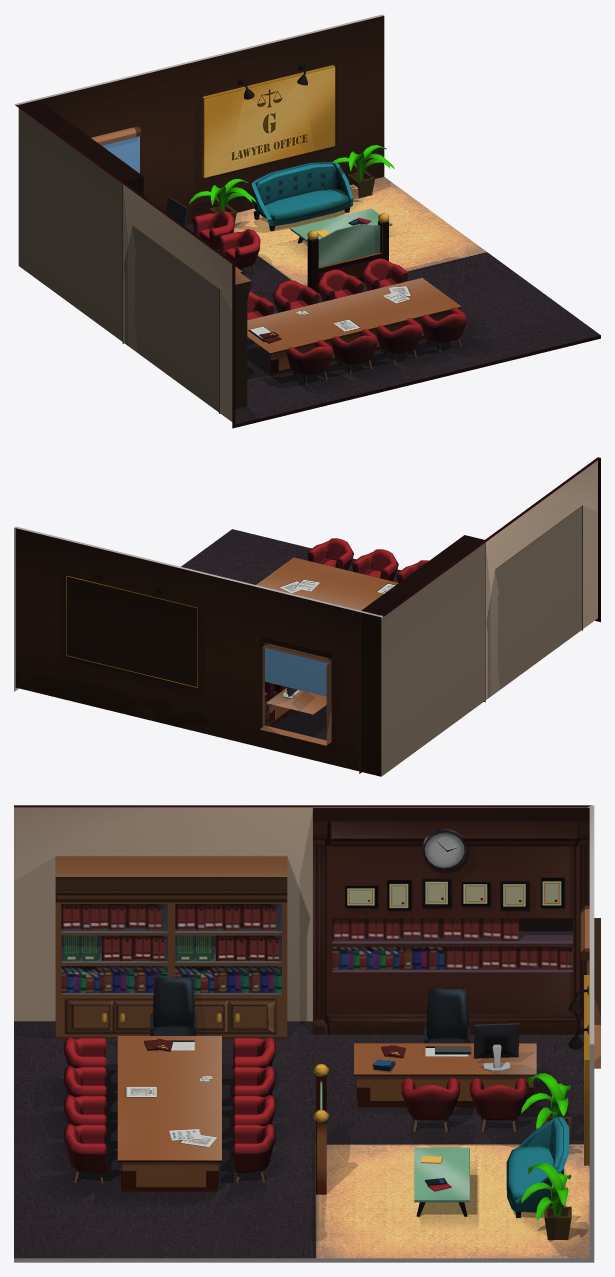
File: Tx_Interior_Shop_LegalWill_20170707.fbx
3 views of the same model, one above another, from view 1: azimuth 30°, elevation 25°; view 2: azimuth 150°, elevation 25°; view 3: azimuth 270°, elevation 25° (orthographic). The views are drawn at different scales.
Visible parts, largest first — view 1: room, company_name, OfficeTable_big, sofa_long, shelf_big, shelf_small, glasses, cover_thingy, sofa_left, window, sofa_l3, sofa_l4 (+10 smaller); view 2: room, OfficeTable_big, window, shelf_big, OfficeTable_small, sofa_l4, sofa_l3, company_name; view 3: room, shelf_big, shelf_small, OfficeTable_big, OfficeTable_small, book_bottom, chair_boss (×2), book_top, sofa_long, table_glass, book_top_left, book_top_right (+29 smaller).
Boxes of the visible parts, x1,y1,x2,y2 form: room: (14, 14, 600, 428); company_name: (202, 65, 335, 177); OfficeTable_big: (247, 278, 461, 375); sofa_long: (251, 162, 353, 231); shelf_big: (20, 100, 143, 343); shelf_small: (132, 225, 251, 413); glasses: (318, 224, 380, 266); cover_thingy: (307, 221, 388, 293); sofa_left: (218, 229, 260, 273); window: (91, 126, 141, 173); sofa_l3: (375, 318, 422, 363); sofa_l4: (420, 307, 466, 352); room: (14, 457, 600, 776); OfficeTable_big: (256, 557, 398, 610); window: (260, 642, 331, 745); shelf_big: (359, 535, 485, 773); OfficeTable_small: (266, 688, 326, 727); sofa_l4: (307, 538, 353, 570); sofa_l3: (351, 549, 398, 581); company_name: (66, 576, 197, 687); room: (14, 805, 594, 1262); shelf_big: (313, 808, 589, 1034); shelf_small: (55, 856, 287, 1038); OfficeTable_big: (117, 1036, 221, 1191); OfficeTable_small: (354, 1043, 536, 1107); book_bottom: (332, 947, 572, 969); chair_boss (×2): (150, 976, 470, 1043); book_top: (332, 918, 518, 940); sofa_long: (506, 1117, 569, 1217); table_glass: (414, 1147, 469, 1216); book_top_left: (61, 904, 167, 930); book_top_right: (175, 904, 281, 930).
Size of the model in its own units: 52.33 by 22.42 by 54.31.
Materials: 3 (3 with a texture image).
